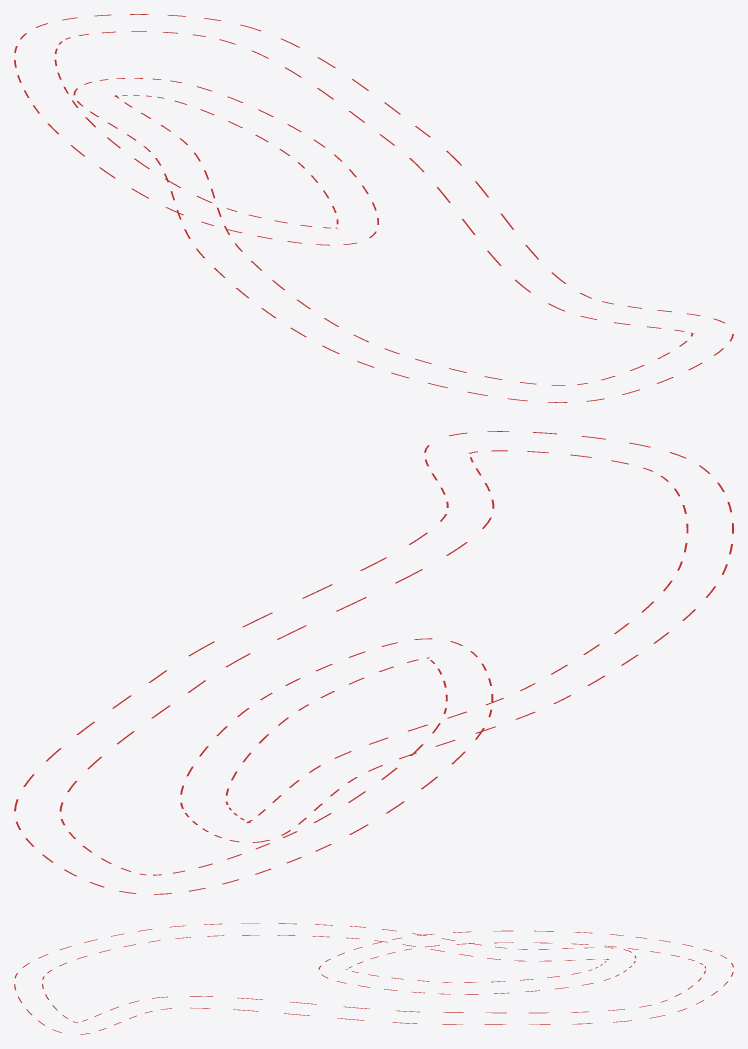
Rendered from SM_DK_13_Distant_illuminated_secondary_circuit_red.fbx.
3 views of the same model, one above another, from view 1: azimuth 30°, elevation 25°; view 2: azimuth 150°, elevation 25°; view 3: azimuth 270°, elevation 25° (orthographic). The views are drawn at different scales.
Visible parts, largest first — view 1: 13 Distant illuminated secondary circuit | red; view 2: 13 Distant illuminated secondary circuit | red; view 3: 13 Distant illuminated secondary circuit | red.
Boxes of the visible parts, x1=… form: 13 Distant illuminated secondary circuit | red: x1=14, y1=14, x2=733, y2=402; 13 Distant illuminated secondary circuit | red: x1=14, y1=431, x2=733, y2=894; 13 Distant illuminated secondary circuit | red: x1=14, y1=923, x2=733, y2=1034.
Size of the model in its own units: 8912 by 24305 by 0.
